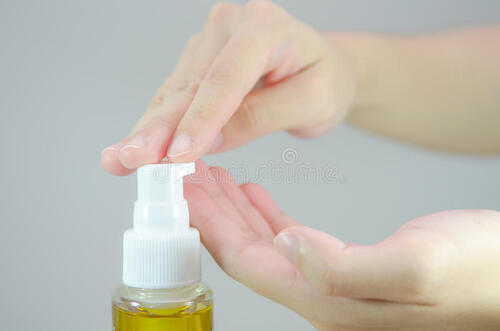sanitizer: (117, 163, 217, 329)
